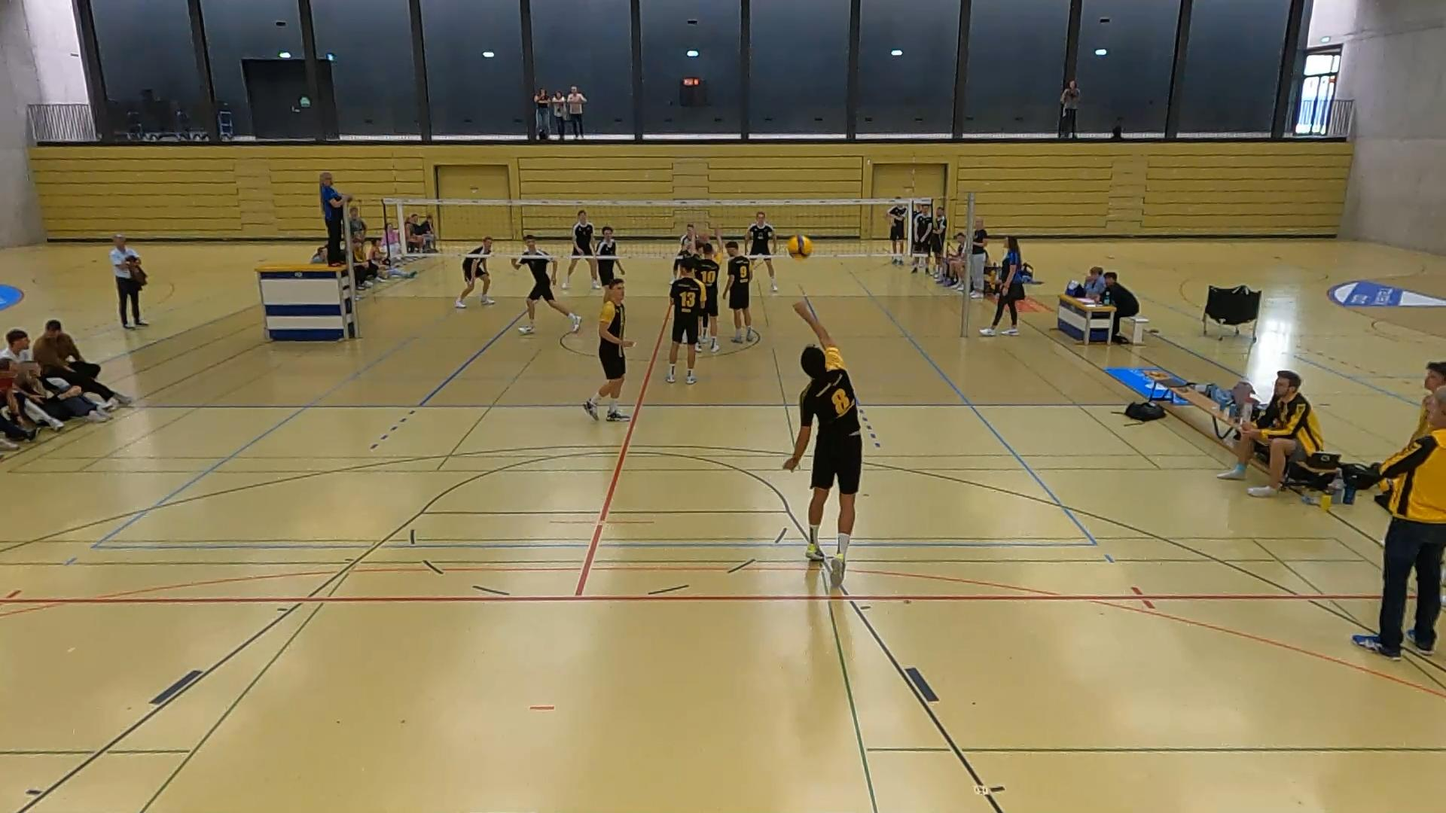Player: (584, 279, 633, 421), (511, 234, 581, 333), (666, 258, 706, 384), (724, 241, 755, 343), (561, 210, 599, 290), (695, 242, 721, 352), (455, 236, 494, 309), (748, 211, 777, 292), (596, 226, 625, 288), (673, 224, 698, 279)
Serve: (774, 299, 875, 595)
ball: (785, 228, 813, 264)
